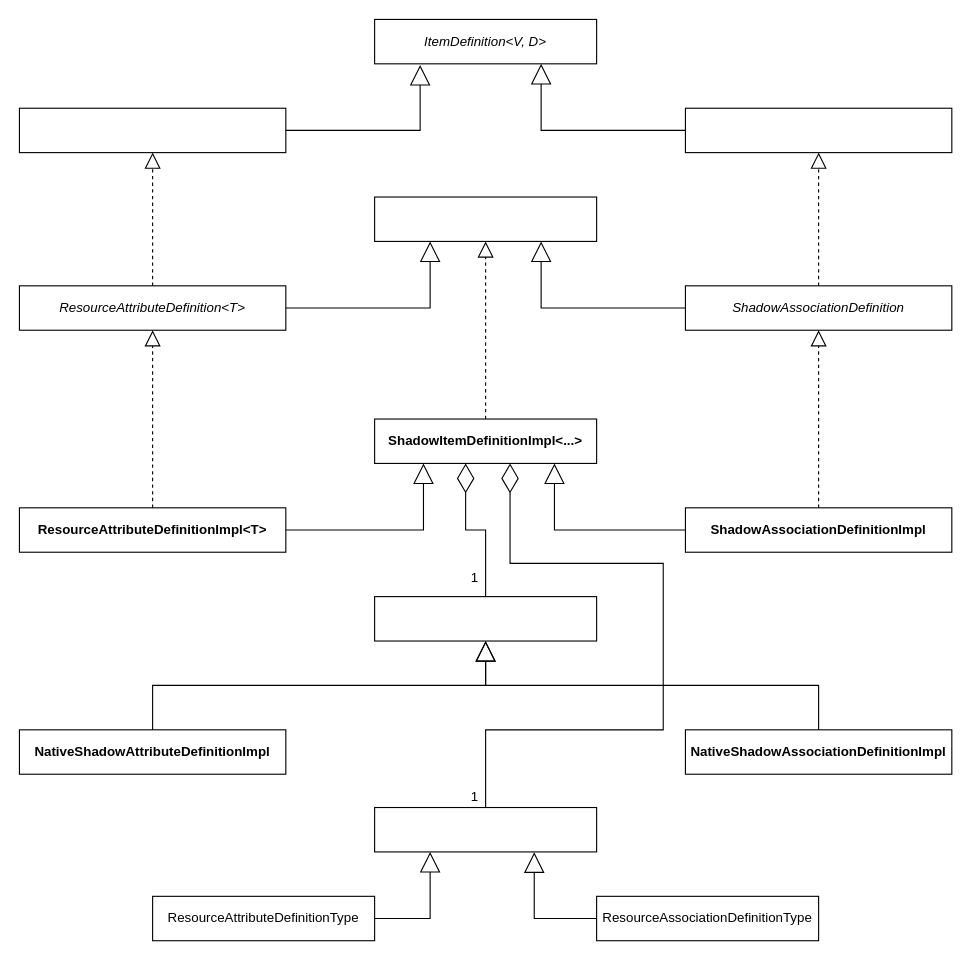
Image size: 971x960. Some labels were removed from this diagram. The centre of each missing label's shape, as x and y in pixels:
NativeShadowItemDefinitionImpl: [485,618]
PrismContainerDefinition<SAVT>: [818,130]
PrismPropertyDefinition<T>: [152,130]
ResourceItemDefinitionType: [485,829]
ShadowItemDefinition<...>: [485,218]
